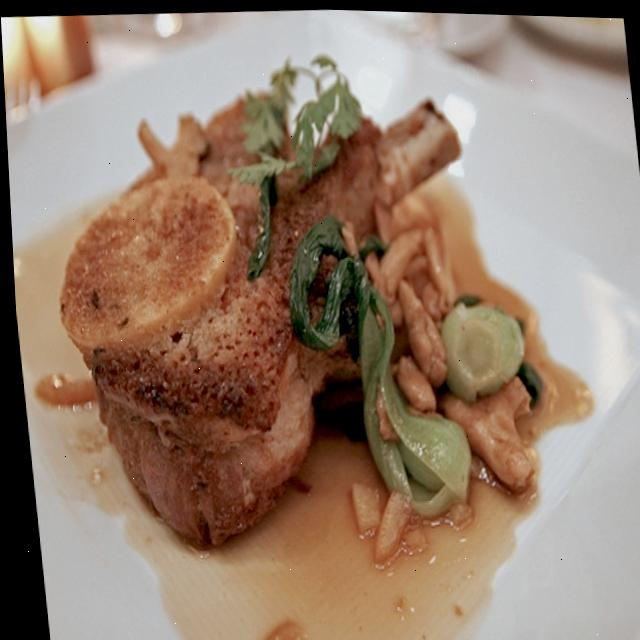猪肉菜式: (0, 0, 603, 605)
